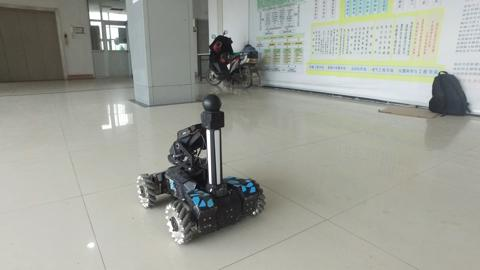bag: (421, 65, 480, 128)
chariot: (131, 89, 274, 247)
